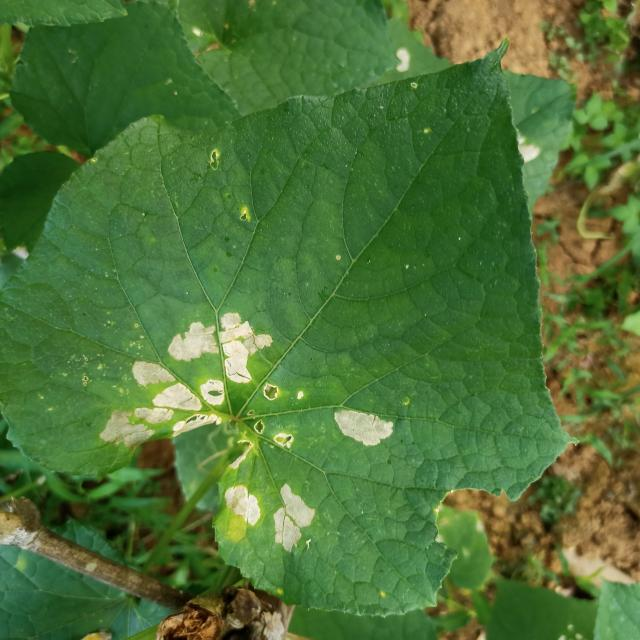disease_cucumber: (98, 311, 279, 452), (272, 482, 318, 554), (330, 403, 395, 449), (224, 482, 264, 527), (251, 416, 296, 452)
